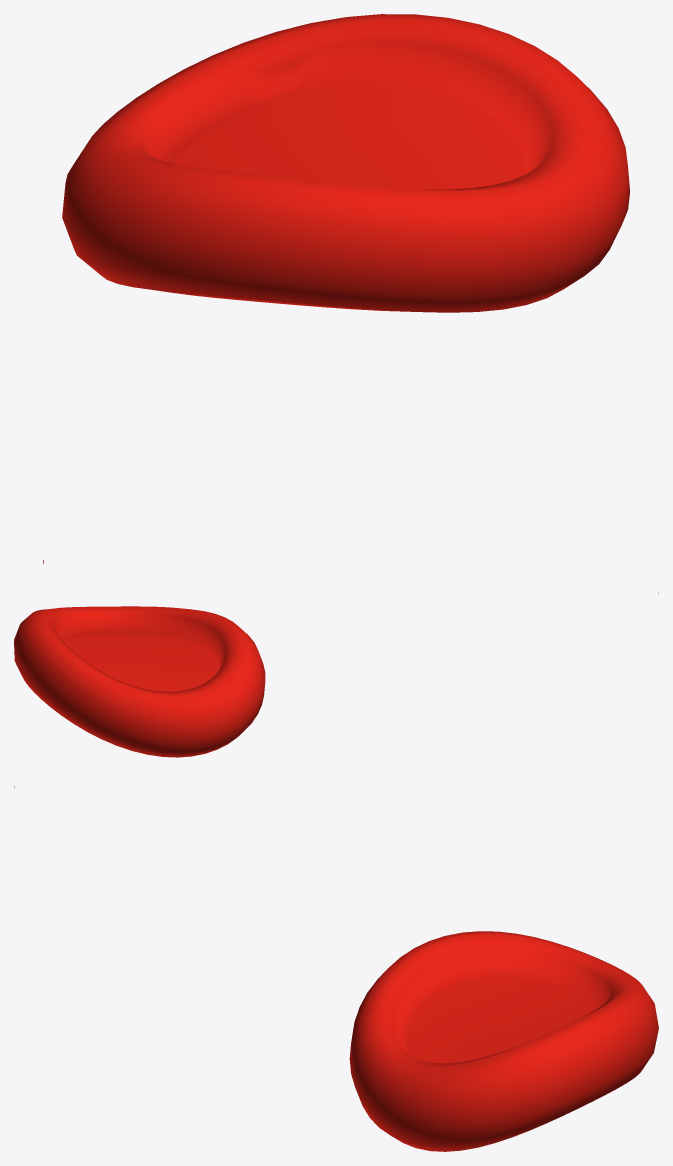
File: redbloodcells.fbx
3 renders of one model, top to bottom at view 1: azimuth 30°, elevation 25°; view 2: azimuth 150°, elevation 25°; view 3: azimuth 270°, elevation 25°, orthographic. The views are drawn at different scales.
Parts seen in each view (by area): view 1: Torus; view 2: Torus; view 3: Torus.
Part boxes in pixels (x1,y1,x2,y2): Torus: (62, 14, 629, 312); Torus: (14, 606, 265, 757); Torus: (349, 931, 658, 1151).
Bounding box in the file's own units: 629 × 113 × 576.
